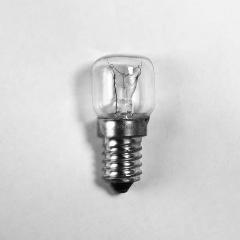lightbulb: (91, 53, 155, 193)
